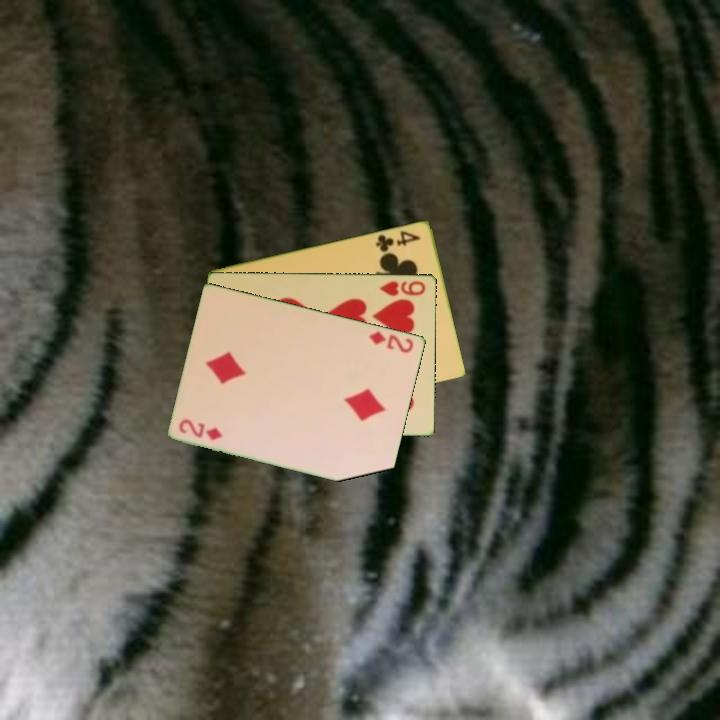2d: (366, 328, 416, 356), (176, 416, 225, 443)
4c: (372, 227, 423, 255)
9h: (377, 277, 428, 298)
